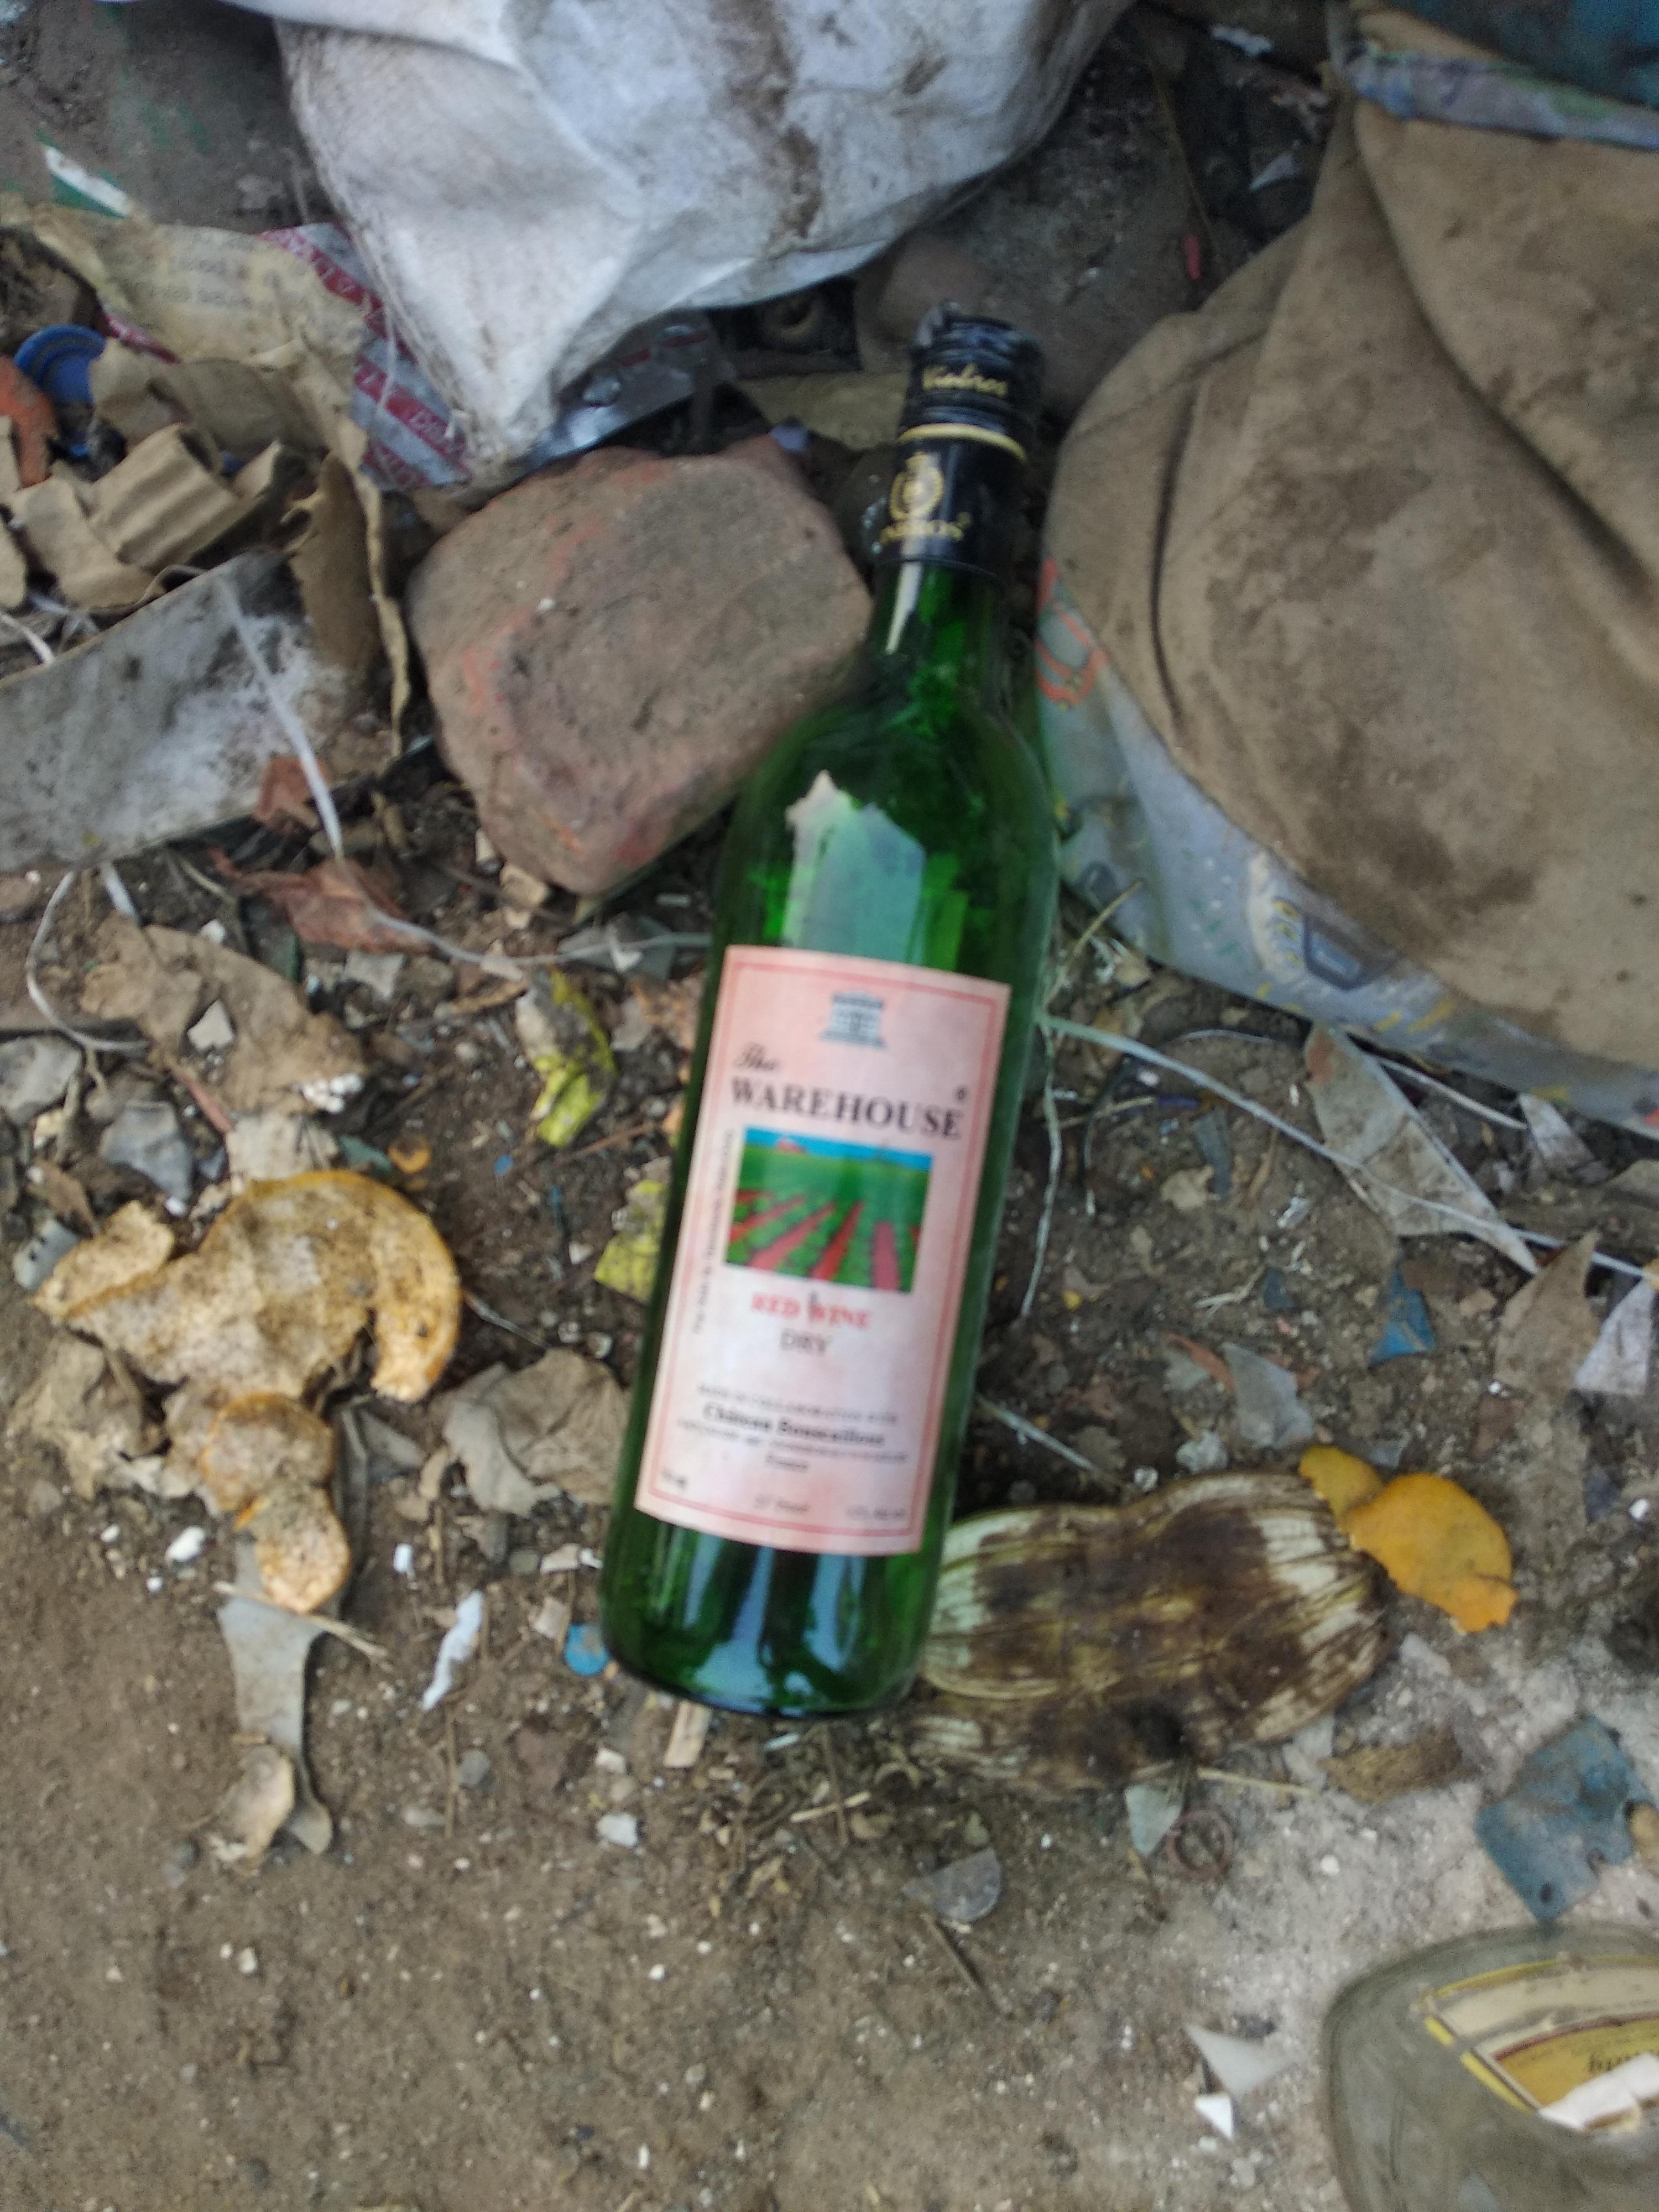trash: (10, 0, 1659, 2186)
